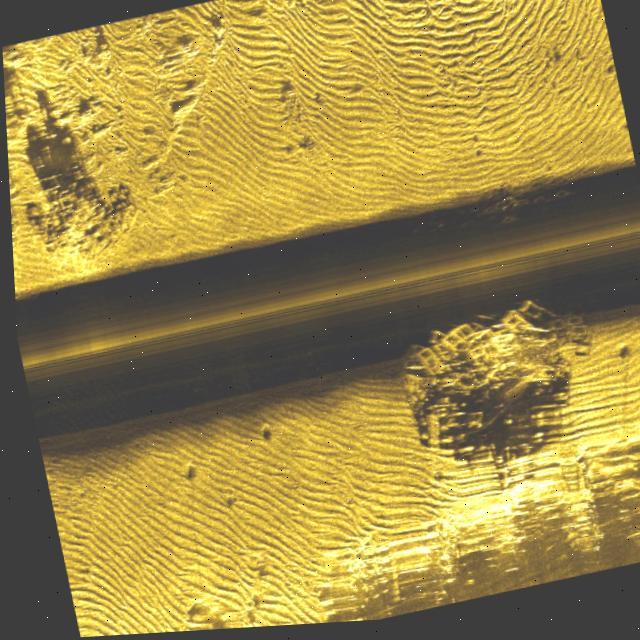artificial reef: (387, 290, 608, 455), (459, 181, 584, 244)
